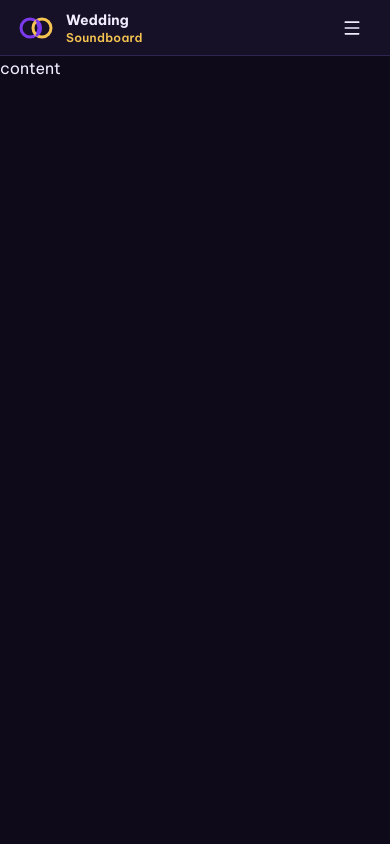
Test: AppShell › toggles the menu panel on small screens
Later steps or results of the test are not shown.
Click the button named "Mở menu" at (352, 28), box [330,6,374,50]
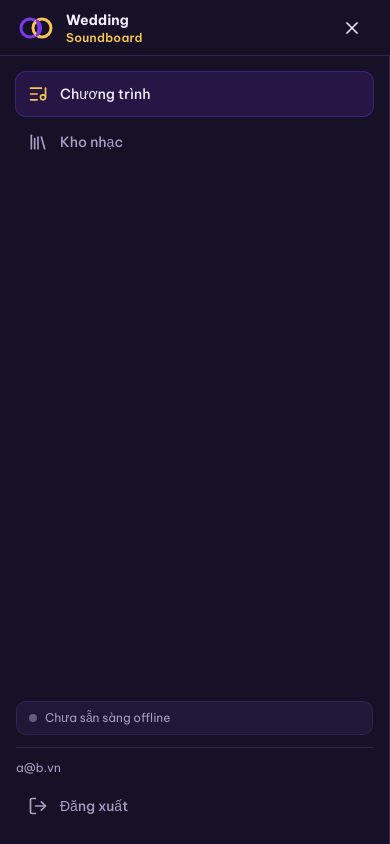
Now the button named "Mở menu" is expanded, box [330,6,374,50]
